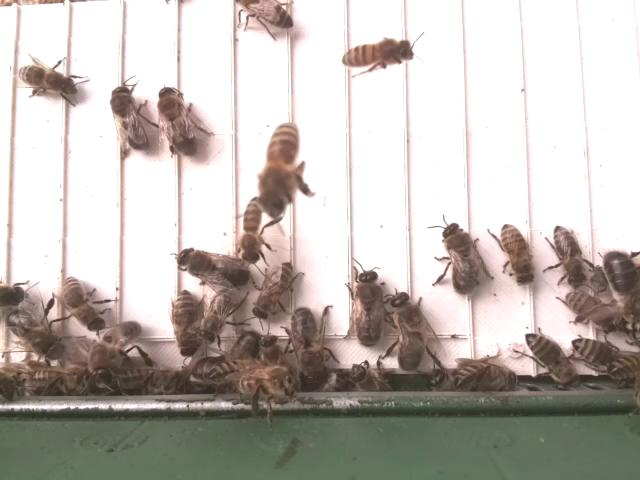Drone: (173, 245, 255, 291), (4, 306, 70, 363), (156, 83, 201, 158), (440, 220, 483, 298), (288, 304, 328, 387), (388, 289, 427, 373), (109, 80, 150, 152), (352, 266, 387, 347)
Worker: (259, 122, 301, 212), (525, 331, 575, 387), (497, 221, 537, 289), (61, 271, 105, 331), (250, 261, 293, 319), (568, 335, 630, 375), (340, 38, 417, 70), (551, 222, 586, 289), (199, 286, 240, 343), (563, 289, 616, 332), (170, 289, 201, 357), (231, 0, 297, 31), (16, 63, 77, 95), (241, 194, 269, 263)
